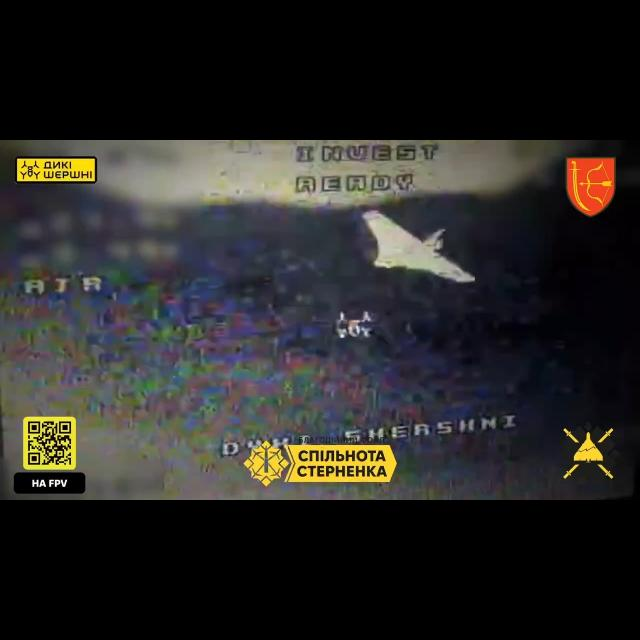Gerbera: (362, 210, 476, 284)
